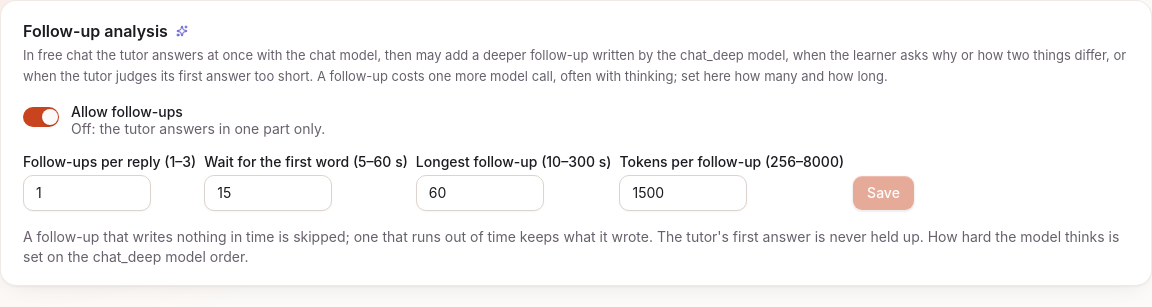
Scenario: DeepenSection › refuses values out of bounds and saves the limits
Expected: the button "Save" is disabled, [852, 175, 915, 211]
Replace the text in the number field labelled "Follow-ups per reply (1–3)" with "4": (87, 193) [23, 175, 151, 211]
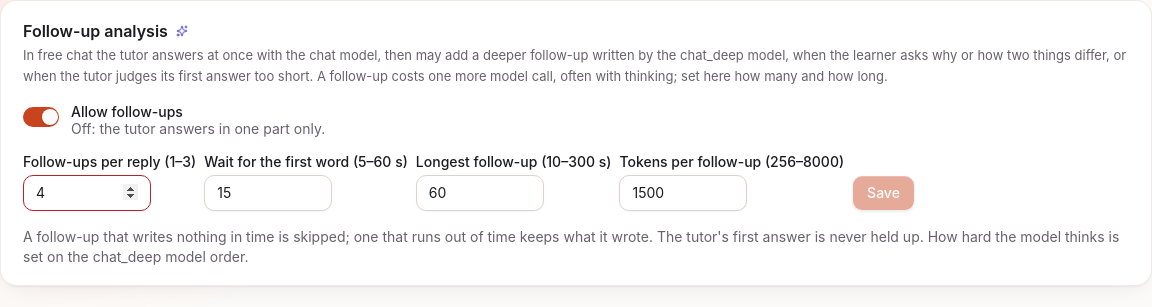
Expected: the button "Save" is disabled, [852, 175, 915, 211]
Expected: the number field labelled "Follow-ups per reply (1–3)" is marked as invalid
Replace the text in the number field labelled "Follow-ups per reply (1–3)" with "2": (87, 193) [23, 175, 151, 211]
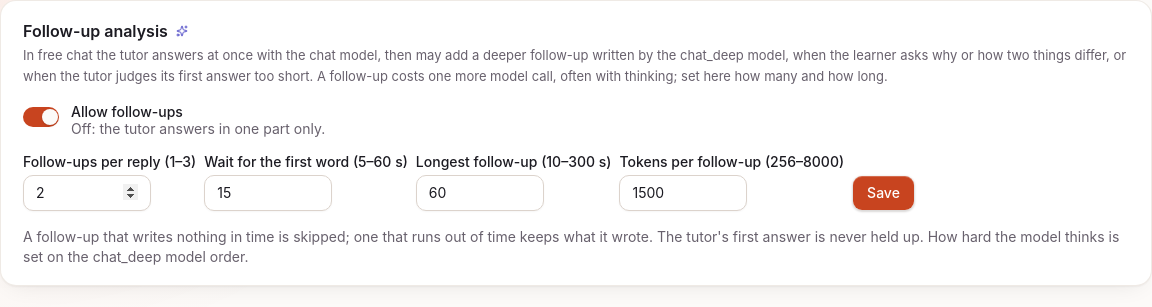
Replace the text in the number field labelled "Longest follow-up (10–300 s)" with "120": (480, 193) [416, 175, 544, 211]
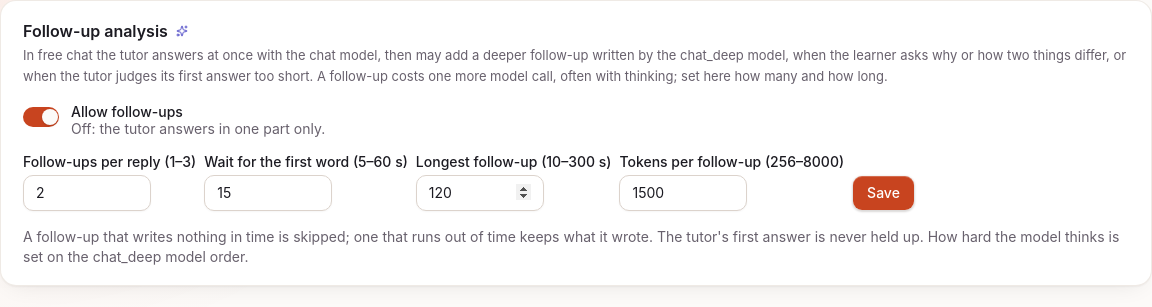
Click the button "Save": (884, 193) [852, 175, 915, 211]
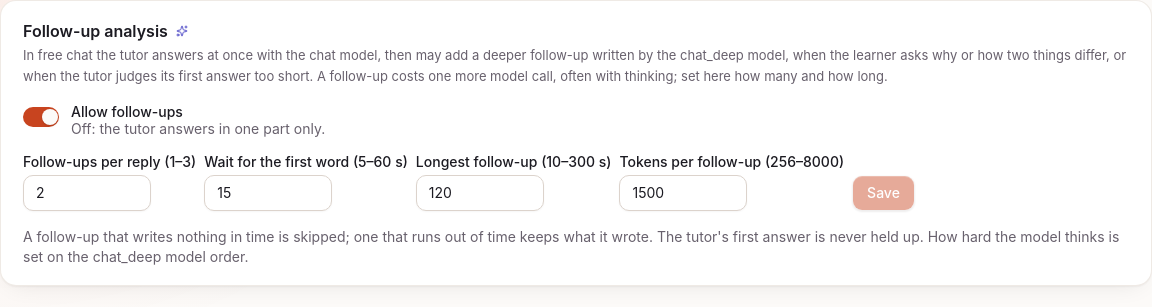
Expected: the number field labelled "Follow-ups per reply (1–3)" holds "2", [23, 175, 151, 211]
Expected: the button "Save" is disabled, [852, 175, 915, 211]
